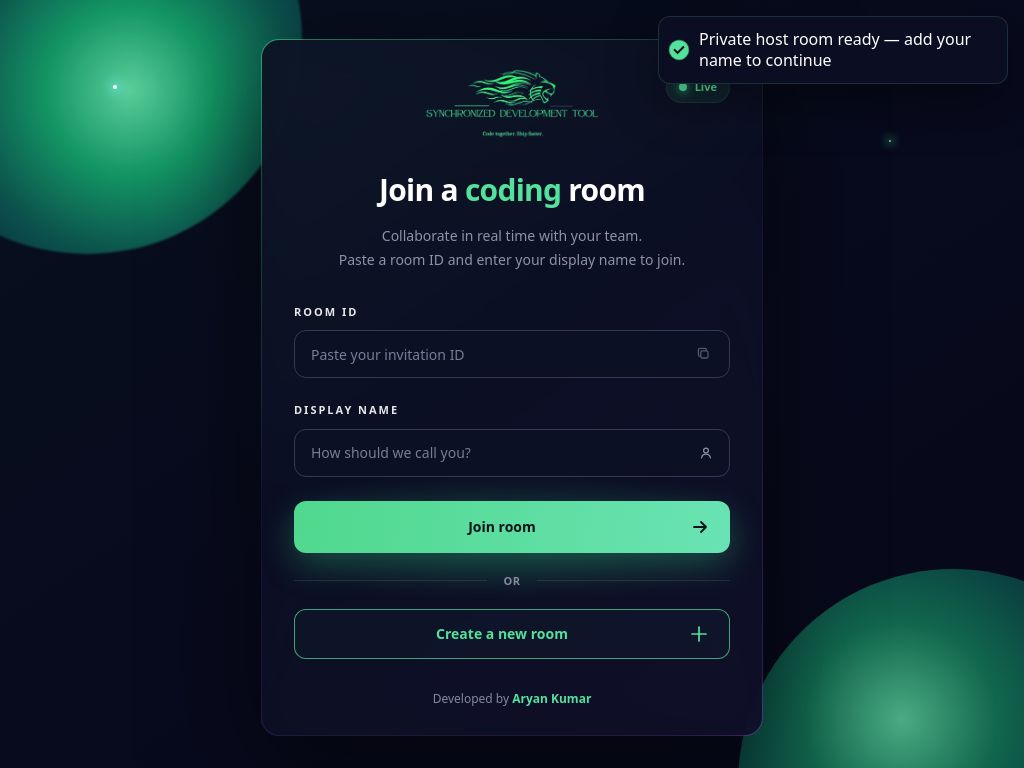
Test case: explains and previews each room workflow before creation
Click the button "Create a new room".
click(512, 634)  # box [294,609,730,659]
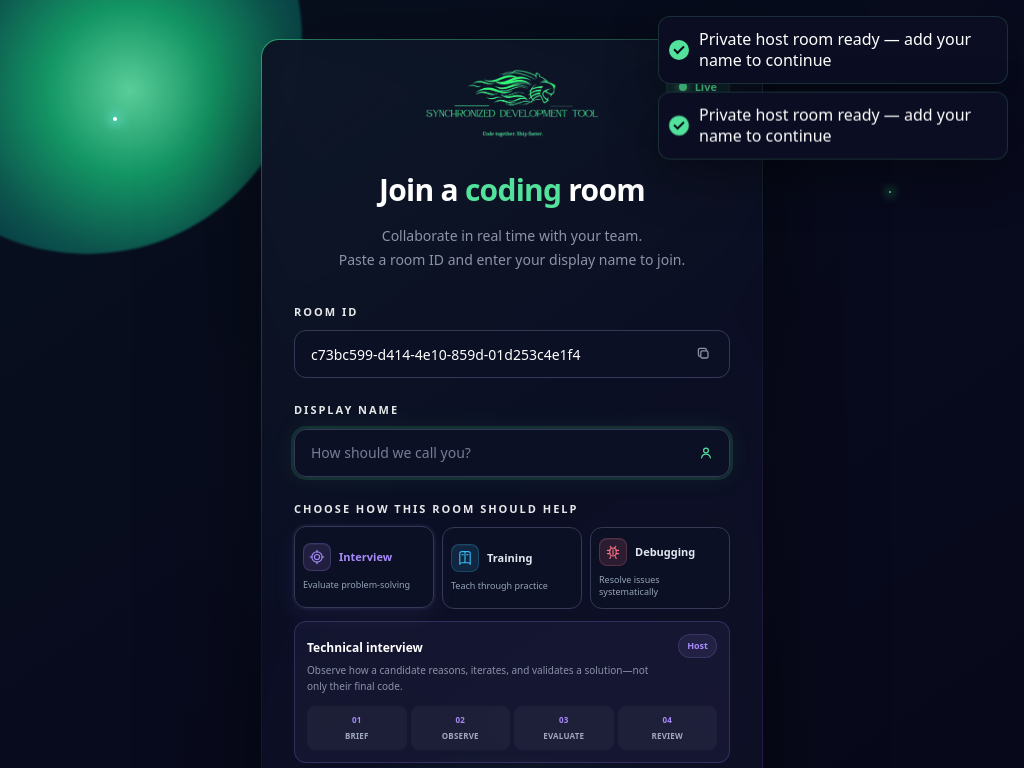
Now the list item "Observe" is shown, box [442,730,479,741]
Click the radio button labelled "Debugging Resolve issues systematically".
click(660, 568)  # box [590,527,730,609]
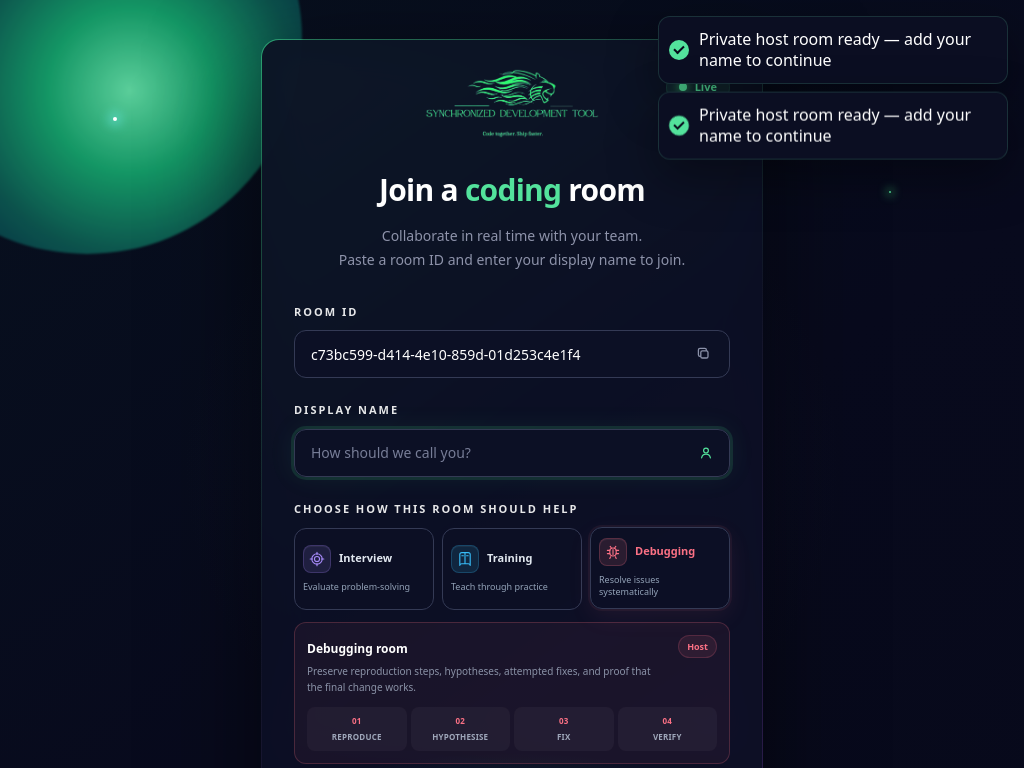
Now the list item "Reproduce" is shown, box [332,730,382,741]
Now the text "Preserve reproduction steps, hypotheses" is shown, box [307,663,651,693]
